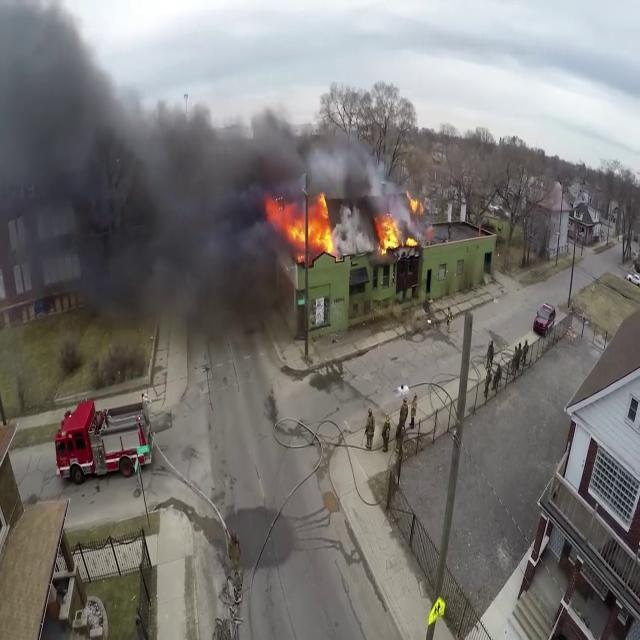Fire: (272, 190, 338, 261), (373, 210, 414, 258)
Smoke: (0, 22, 372, 349)
